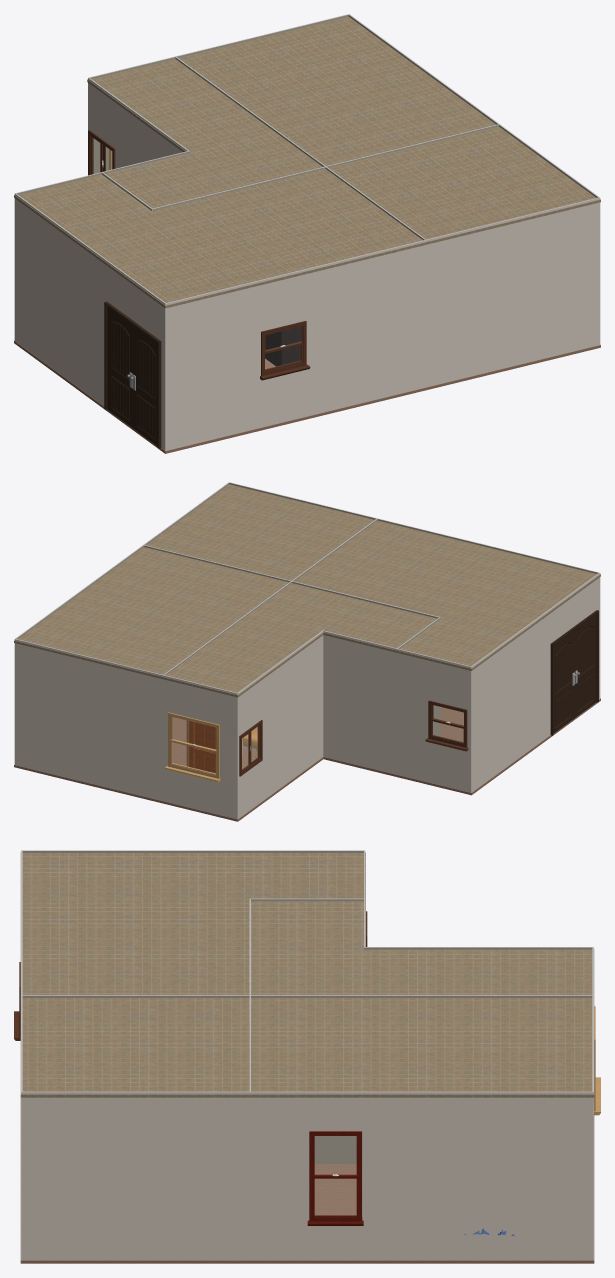
File: ProcTHOR-Train-73.glb
The picture shows the model from 3 angles, top to bottom: view 1: azimuth 30°, elevation 25°; view 2: azimuth 150°, elevation 25°; view 3: azimuth 270°, elevation 25°; orthographic projection. The views are drawn at different scales.
Parts seen in each view (by area): view 1: WallInside#wall|exterior|3.53|8.82|8.82|8.82, Ceiling#room|6|c, WallInside#wall|exterior|0.00|8.82|3.53|8.82, Ceiling#room|4|c, Ceiling#room|5|c, Ceiling#room|7|c, WallInside#wall|exterior|8.82|3.53|8.82|8.82, WallInside#wall|exterior|5.29|0.00|5.29|3.53, Doorway_Door_9b, Doorway_Door_9a, Floor#room|6|f, Window_Hung_36x32 (+5 smaller); view 2: Ceiling#room|6|c, WallInside#wall|exterior|0.00|0.00|3.53|0.00, Ceiling#room|4|c, Ceiling#room|7|c, Ceiling#room|5|c, WallInside#wall|exterior|8.82|3.53|8.82|8.82, WallInside#wall|exterior|5.29|0.00|5.29|3.53, WallInside#wall|exterior|5.29|3.53|7.05|3.53, WallInside#wall|exterior|7.05|3.53|8.82|3.53, WallInside#wall|exterior|3.53|0.00|5.29|0.00, Doorway_Door_9a, Doorway_Door_9b (+9 smaller); view 3: WallInside#wall|exterior|0.00|0.00|0.00|5.29, WallInside#wall|exterior|0.00|5.29|0.00|8.82, Ceiling#room|6|c, Ceiling#room|4|c, Ceiling#room|5|c, Ceiling#room|7|c, Floor#room|4|f, WallInside#wall|4|3.53|0.00|3.53|5.29, Window_Hung_32x60, WallInside#wall|6|8.82|3.53|8.82|8.82, Floor#room|5|f, WallInside#wall|7|5.29|0.00|5.29|3.53 (+1 smaller).
Part boxes in pixels (x1=…): WallInside#wall|exterior|3.53|8.82|8.82|8.82: x1=165, y1=240, x2=426, y2=450; Ceiling#room|6|c: x1=14, y1=169, x2=425, y2=308; WallInside#wall|exterior|0.00|8.82|3.53|8.82: x1=426, y1=198, x2=600, y2=387; Ceiling#room|4|c: x1=175, y1=16, x2=495, y2=167; Ceiling#room|5|c: x1=325, y1=126, x2=600, y2=244; Ceiling#room|7|c: x1=87, y1=59, x2=324, y2=211; WallInside#wall|exterior|8.82|3.53|8.82|8.82: x1=14, y1=193, x2=165, y2=450; WallInside#wall|exterior|5.29|0.00|5.29|3.53: x1=88, y1=78, x2=188, y2=168; Doorway_Door_9b: x1=107, y1=306, x2=133, y2=428; Doorway_Door_9a: x1=133, y1=325, x2=157, y2=446; Floor#room|6|f: x1=14, y1=340, x2=425, y2=453; Window_Hung_36x32: x1=260, y1=321, x2=310, y2=380; Ceiling#room|6|c: x1=293, y1=520, x2=600, y2=670; WallInside#wall|exterior|0.00|0.00|3.53|0.00: x1=14, y1=639, x2=163, y2=801; Ceiling#room|4|c: x1=14, y1=547, x2=291, y2=678; Ceiling#room|7|c: x1=162, y1=583, x2=438, y2=697; Ceiling#room|5|c: x1=146, y1=484, x2=376, y2=582; WallInside#wall|exterior|8.82|3.53|8.82|8.82: x1=471, y1=573, x2=600, y2=792; WallInside#wall|exterior|5.29|0.00|5.29|3.53: x1=237, y1=631, x2=323, y2=818; WallInside#wall|exterior|5.29|3.53|7.05|3.53: x1=323, y1=630, x2=397, y2=774; WallInside#wall|exterior|7.05|3.53|8.82|3.53: x1=396, y1=649, x2=471, y2=792; WallInside#wall|exterior|3.53|0.00|5.29|0.00: x1=163, y1=675, x2=237, y2=819; Doorway_Door_9a: x1=574, y1=614, x2=596, y2=717; Doorway_Door_9b: x1=553, y1=630, x2=575, y2=733; WallInside#wall|exterior|0.00|0.00|0.00|5.29: x1=249, y1=1092, x2=593, y2=1260; WallInside#wall|exterior|0.00|5.29|0.00|8.82: x1=21, y1=1092, x2=250, y2=1260; Ceiling#room|6|c: x1=20, y1=852, x2=365, y2=997; Ceiling#room|4|c: x1=249, y1=998, x2=594, y2=1097; Ceiling#room|5|c: x1=20, y1=998, x2=251, y2=1097; Ceiling#room|7|c: x1=249, y1=900, x2=594, y2=997; Floor#room|4|f: x1=249, y1=1163, x2=594, y2=1263; WallInside#wall|4|3.53|0.00|3.53|5.29: x1=251, y1=995, x2=592, y2=1163; Window_Hung_32x60: x1=307, y1=1131, x2=363, y2=1225; WallInside#wall|6|8.82|3.53|8.82|8.82: x1=22, y1=850, x2=364, y2=852; Floor#room|5|f: x1=20, y1=1163, x2=250, y2=1263; WallInside#wall|7|5.29|0.00|5.29|3.53: x1=364, y1=947, x2=593, y2=949.
Size of what is drawn, in the model's own units: 9.05 by 2.91 by 9.06.
225 materials, 80 textured.
